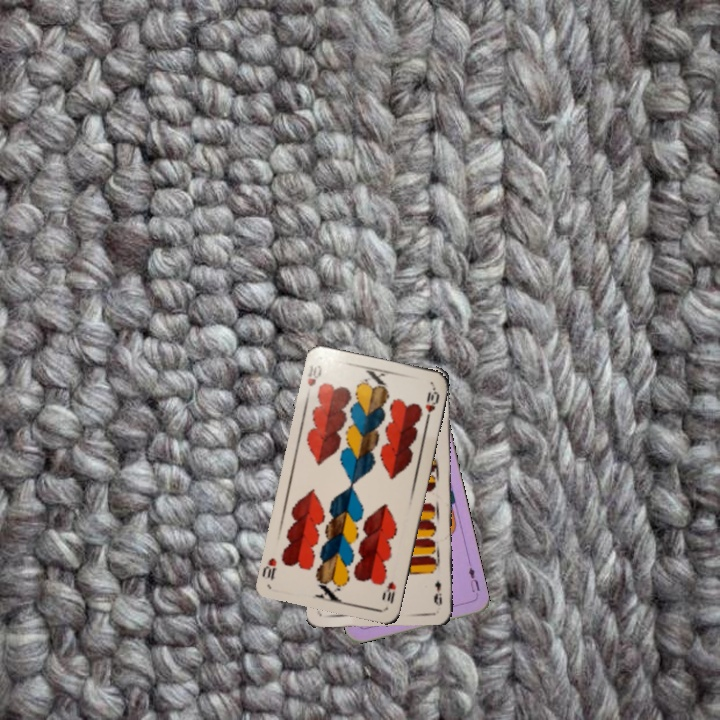E9: (430, 577, 445, 609)
EU: (464, 563, 482, 600)
H10: (303, 361, 325, 389), (378, 577, 398, 606)
